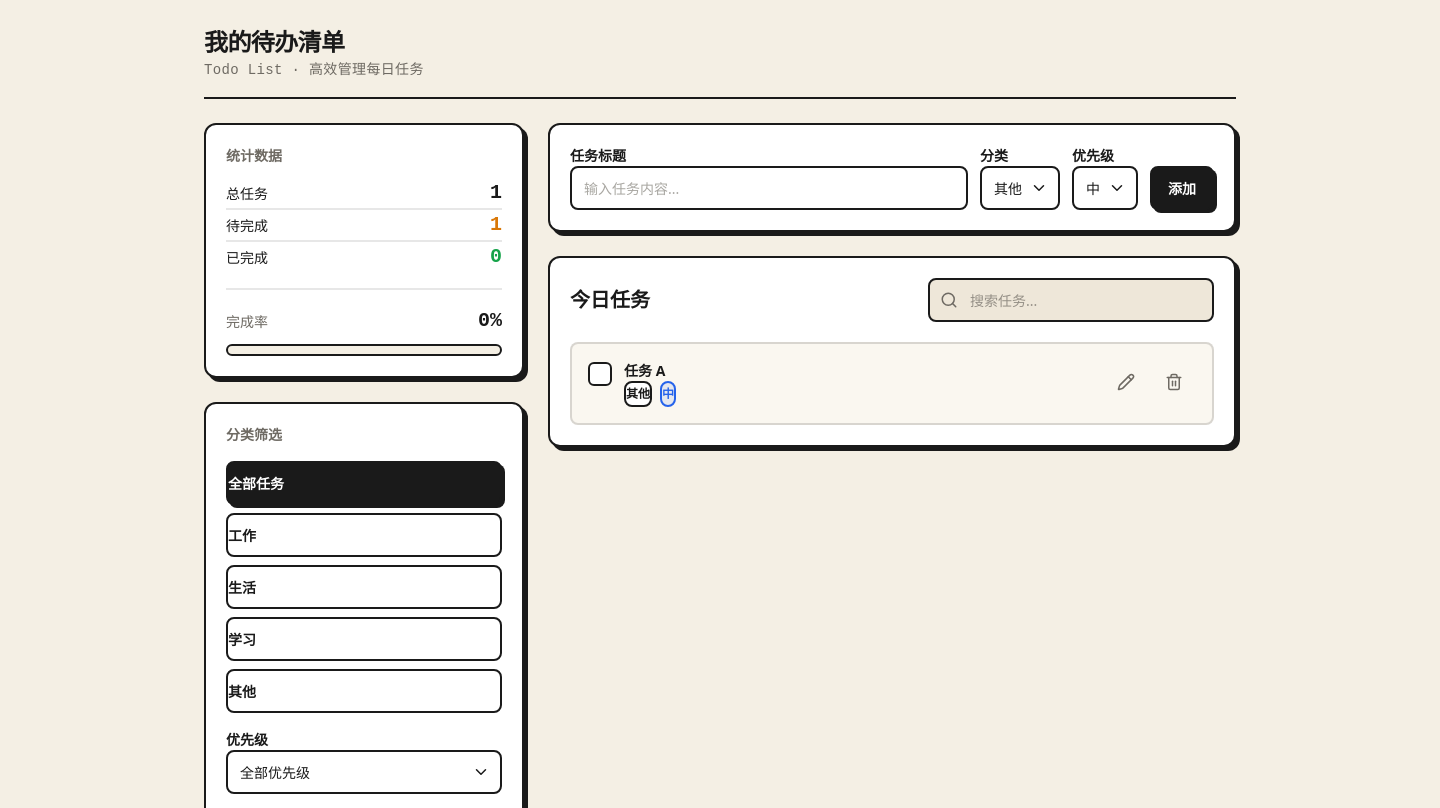
Test: App 表单接入 › 修改后取消编辑需确认，放弃后 store 不变
Click the button named "编辑「任务 A」": {"x": 1126, "y": 382} left=1104, top=360, right=1148, bottom=404
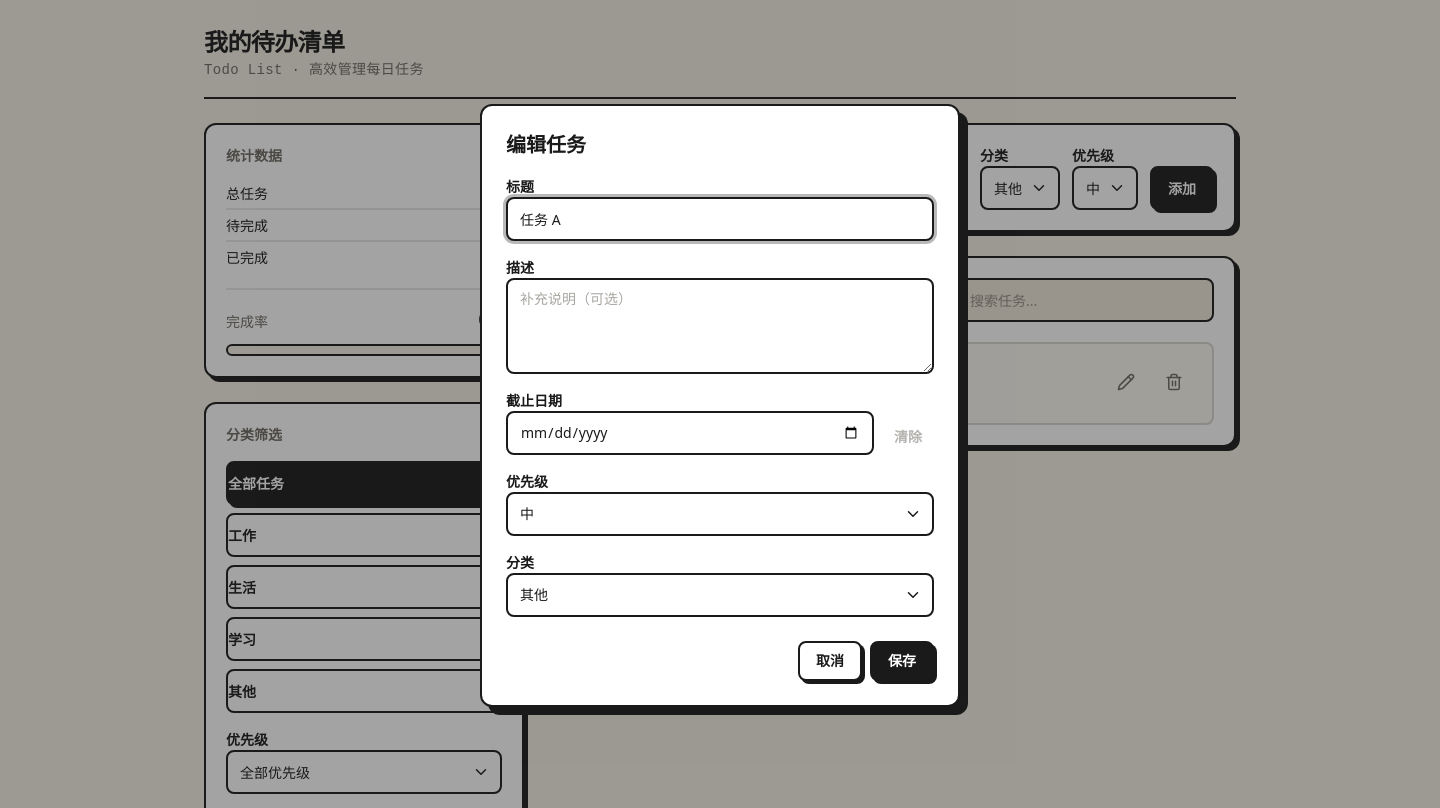
Replace the text in the field labelled "标题" with "不该保存": {"x": 720, "y": 218} left=506, top=196, right=934, bottom=240
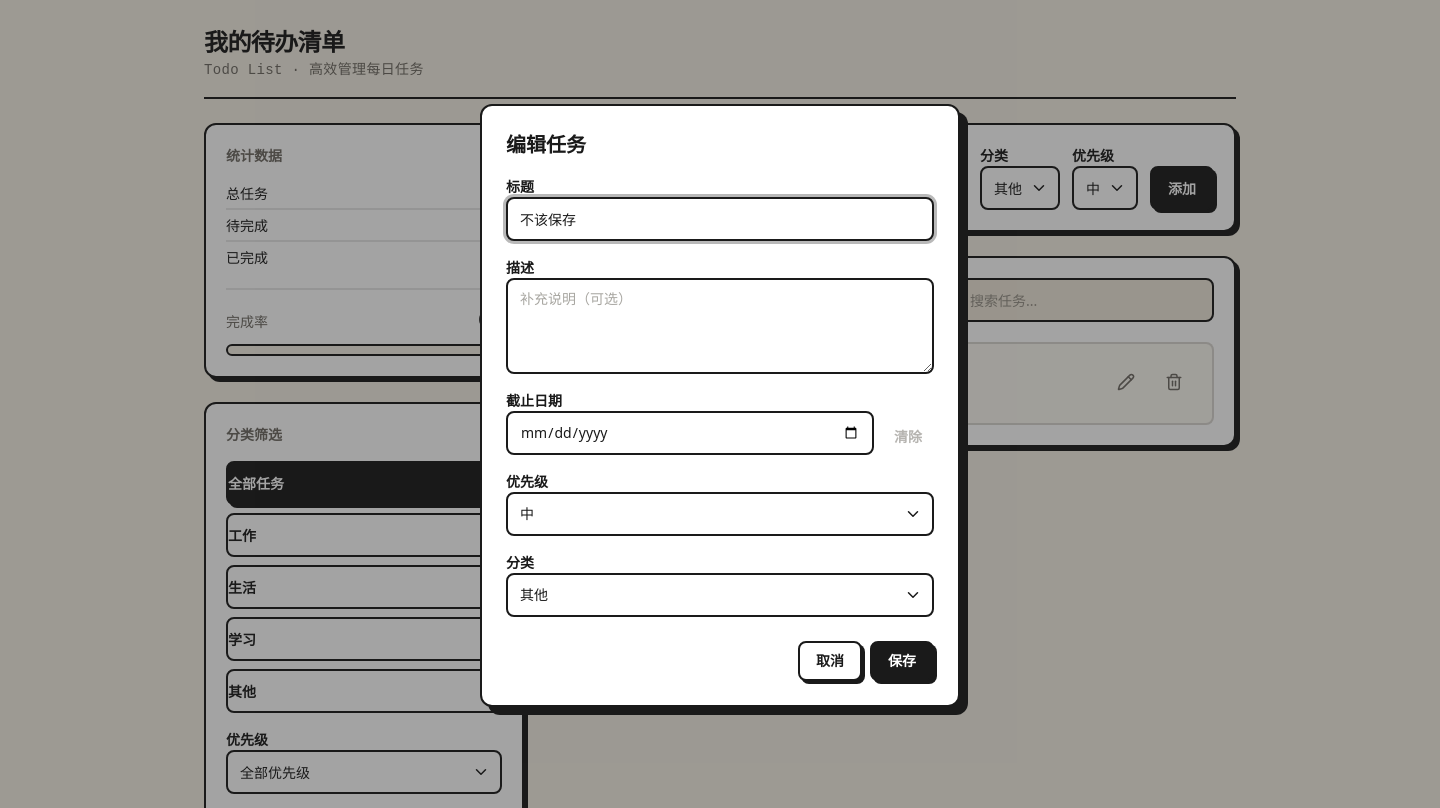
Click the button "取消": {"x": 830, "y": 660} left=798, top=640, right=862, bottom=680
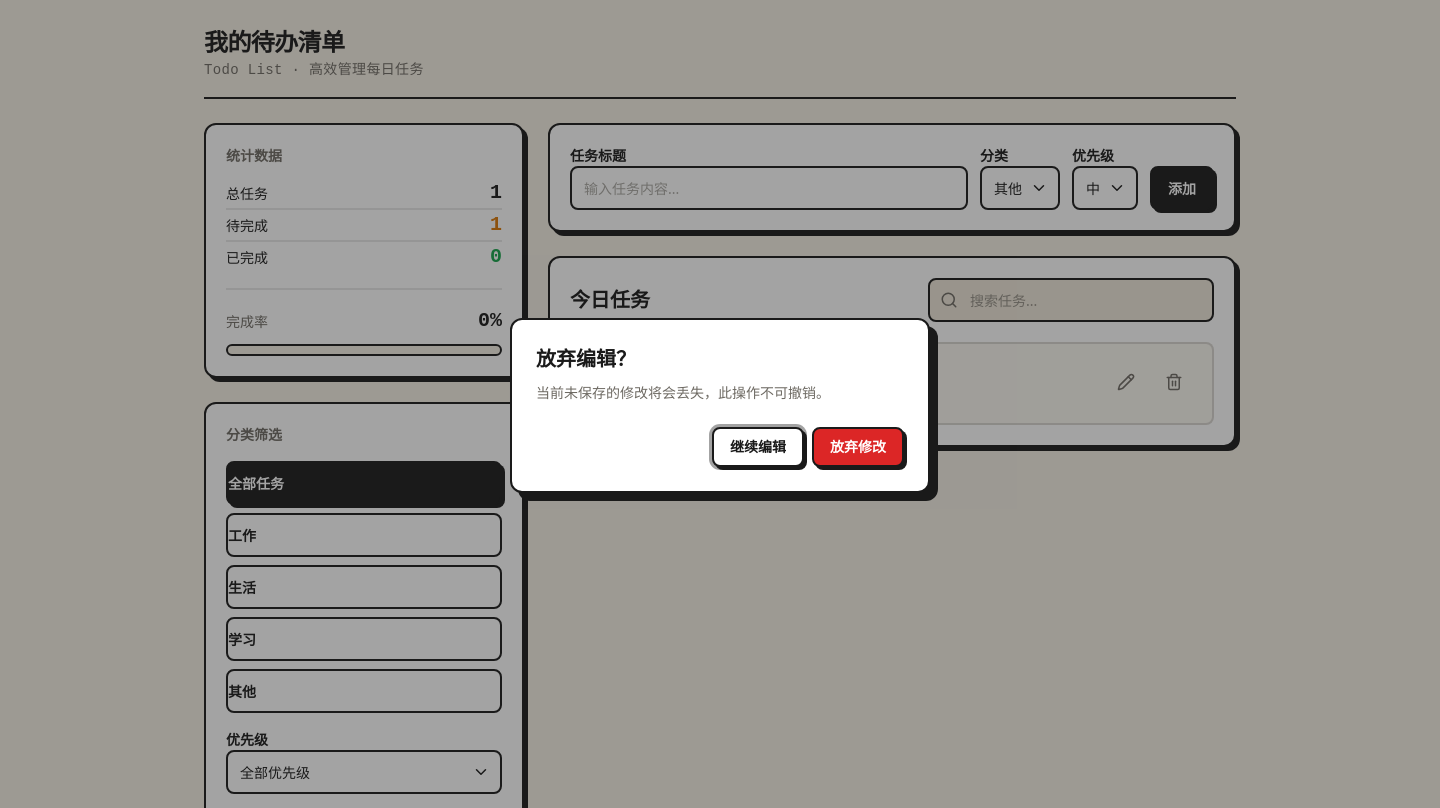
Click the button "放弃修改": {"x": 858, "y": 446} left=812, top=426, right=904, bottom=466
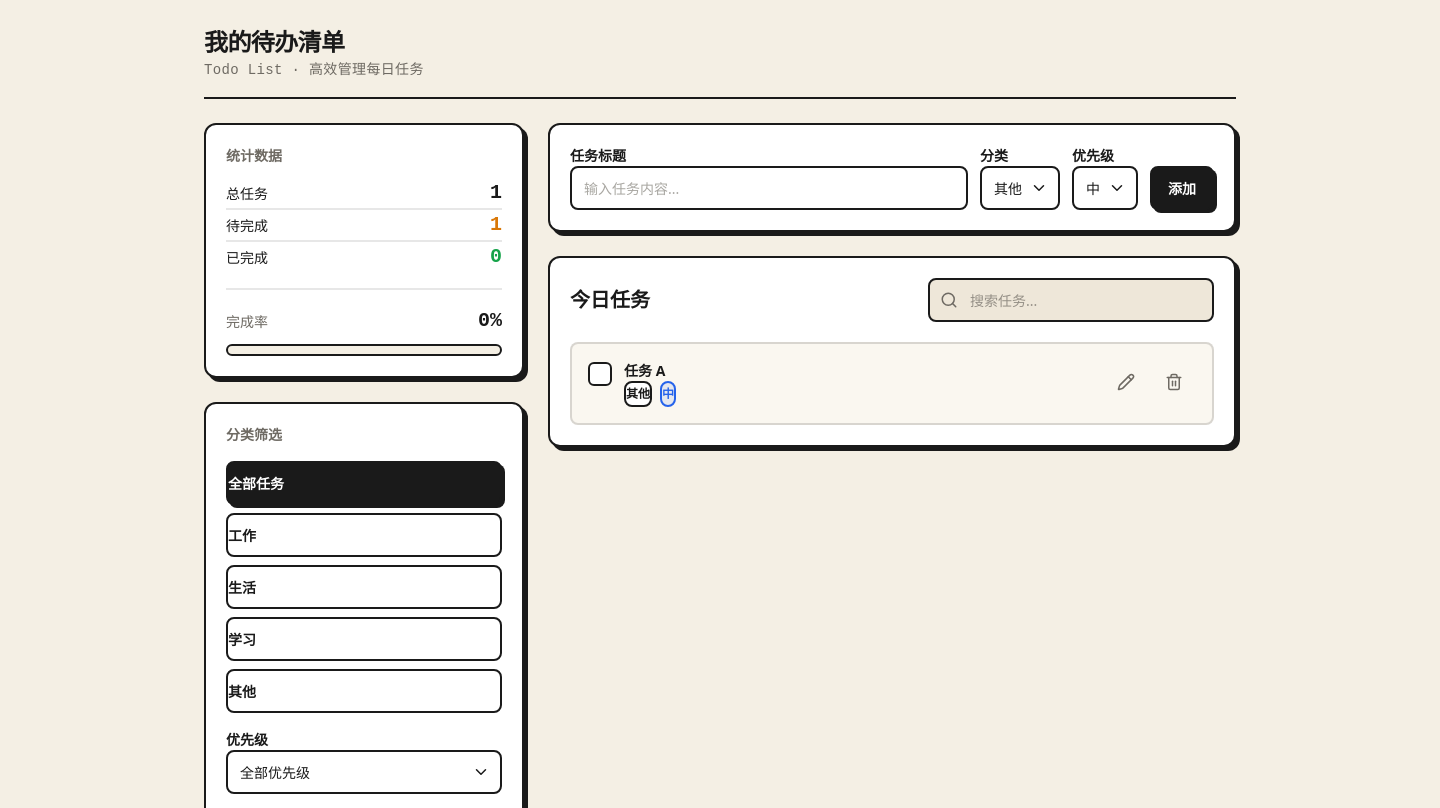
Check: the text "任务 A" is shown, box left=624, top=361, right=665, bottom=380
Check: the dialog is gone
